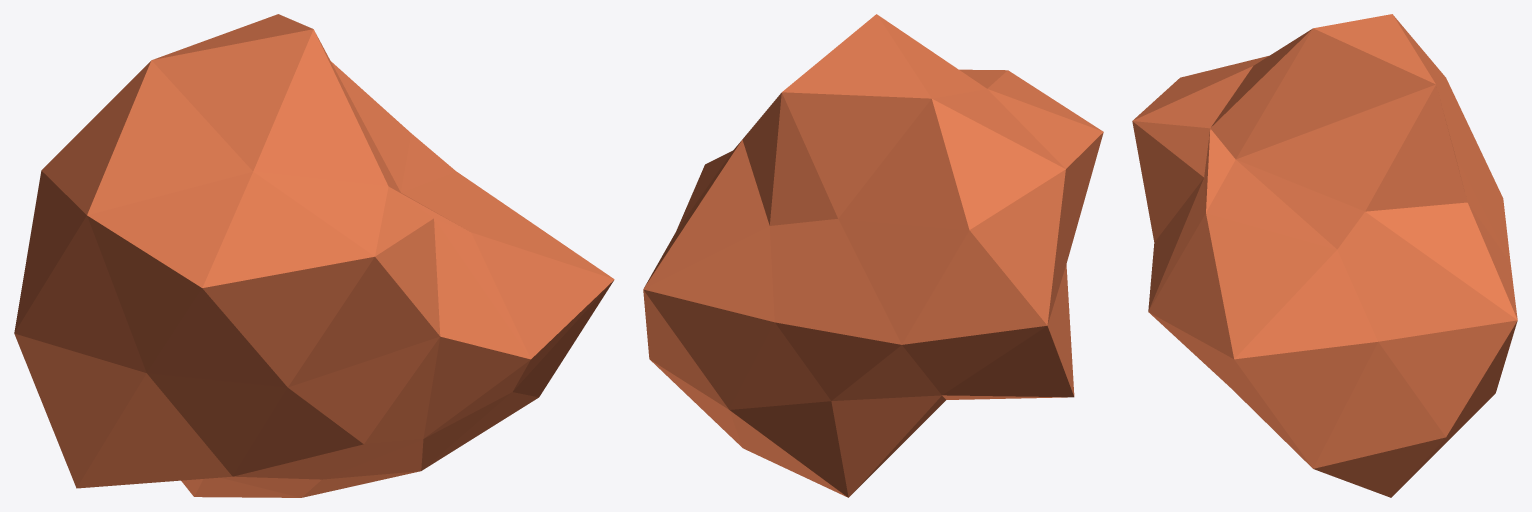
The model's file is rock4.fbx.
3 views of the same model, side by side, from view 1: azimuth 30°, elevation 25°; view 2: azimuth 150°, elevation 25°; view 3: azimuth 270°, elevation 25° (orthographic). The views are drawn at different scales.
Visible parts, largest first — view 1: Икосфера.003; view 2: Икосфера.003; view 3: Икосфера.003.
Boxes of the visible parts, x1,y1,x2,y2 form: Икосфера.003: [14, 14, 614, 497]; Икосфера.003: [643, 14, 1103, 497]; Икосфера.003: [1132, 14, 1517, 497].
Size of the model in its own units: 191 by 185 by 152.
